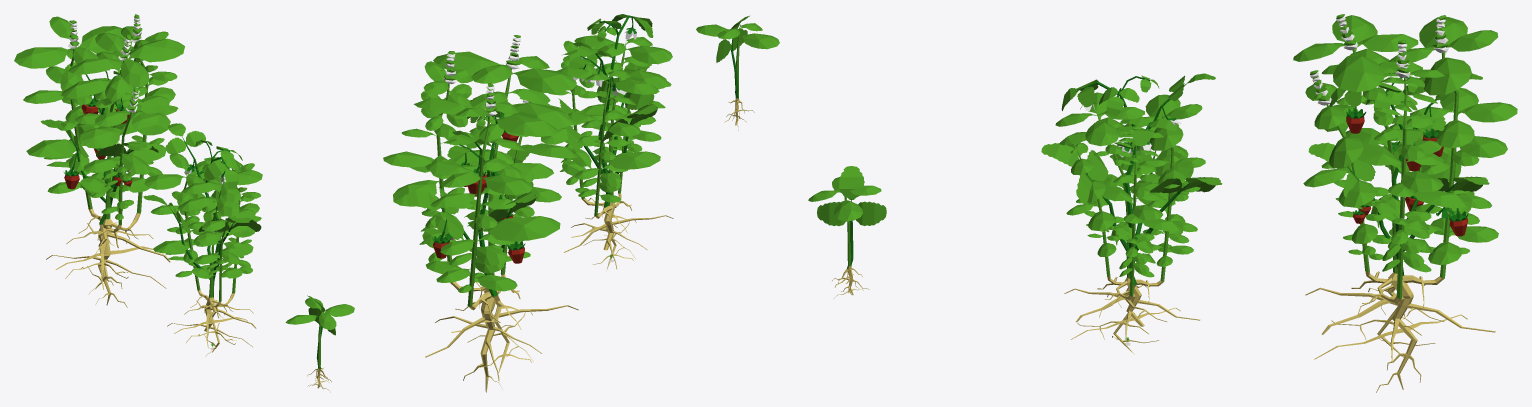
Rendered from strawberry_1.glb.
3 renders of one model, left to right at view 1: azimuth 30°, elevation 25°; view 2: azimuth 150°, elevation 25°; view 3: azimuth 270°, elevation 25°, orthographic. The views are drawn at different scales.
Parts seen in each view (by area): view 1: Cylinder.003, Cylinder.007, Cylinder.004, Cylinder.005, Cylinder.008, Cylinder.002, Cylinder.006, Plane.063, Cylinder.001, NurbsPath.011, NurbsPath.008, Plane.068 (+10 smaller); view 2: Cylinder.003, Cylinder.008, Cylinder.004, Cylinder.006, Cylinder.002, Cylinder.007, Plane.064, NurbsPath.011, NurbsPath.008, Cylinder.005, Cylinder.001, Plane.077 (+11 smaller); view 3: Cylinder.003, Cylinder.008, Cylinder.007, Cylinder.004, Cylinder.006, Cylinder.002, Cylinder.005, Plane.063, Cylinder.001, NurbsPath.008, NurbsPath.011, Plane.067 (+3 smaller).
Boxes of the visible parts, bbox=[...] form: Cylinder.003: bbox=[14, 16, 132, 233]; Cylinder.007: bbox=[79, 95, 170, 248]; Cylinder.004: bbox=[144, 153, 227, 307]; Cylinder.005: bbox=[194, 209, 255, 318]; Cylinder.008: bbox=[111, 26, 178, 243]; Cylinder.002: bbox=[46, 61, 170, 307]; Cylinder.006: bbox=[213, 161, 261, 314]; Plane.063: bbox=[129, 38, 184, 62]; Cylinder.001: bbox=[167, 180, 256, 348]; NurbsPath.011: bbox=[65, 71, 153, 294]; NurbsPath.008: bbox=[184, 140, 253, 356]; Plane.068: bbox=[120, 58, 149, 87]; Cylinder.003: bbox=[414, 97, 560, 322]; Cylinder.008: bbox=[383, 61, 513, 308]; Cylinder.004: bbox=[556, 67, 660, 227]; Cylinder.006: bbox=[541, 40, 627, 217]; Cylinder.002: bbox=[425, 52, 578, 392]; Cylinder.007: bbox=[468, 98, 577, 298]; Plane.064: bbox=[512, 68, 575, 93]; NurbsPath.011: bbox=[451, 112, 533, 373]; NurbsPath.008: bbox=[571, 15, 636, 270]; Cylinder.005: bbox=[592, 66, 671, 210]; Cylinder.001: bbox=[564, 41, 673, 269]; Plane.077: bbox=[512, 103, 570, 129]; Cylinder.003: bbox=[1388, 17, 1517, 307]; Cylinder.008: bbox=[1357, 64, 1468, 314]; Cylinder.007: bbox=[1303, 83, 1388, 288]; Cylinder.004: bbox=[1123, 94, 1205, 302]; Cylinder.006: bbox=[1101, 129, 1180, 307]; Cylinder.002: bbox=[1305, 49, 1495, 392]; Cylinder.005: bbox=[1066, 142, 1124, 289]; Plane.063: bbox=[1333, 54, 1384, 92]; Cylinder.001: bbox=[1064, 113, 1200, 341]; NurbsPath.008: bbox=[1076, 76, 1166, 354]; NurbsPath.011: bbox=[1331, 77, 1444, 357]; Plane.067: bbox=[1357, 34, 1418, 51].
Size of the model in its own units: 11.11 by 20.17 by 34.6.
Materials: 2 (1 with a texture image).
